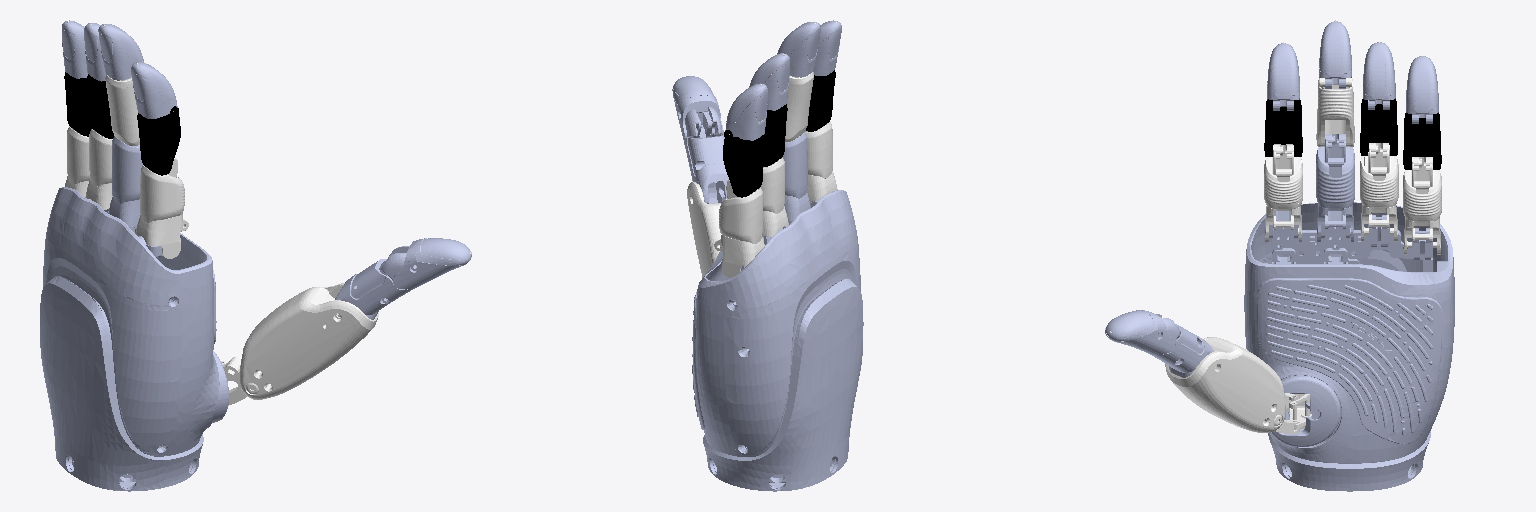
--- Render facts (derived) ---
Views: 3 orthographic renders of the robot side by side, from view 1: azimuth 30°, elevation 25°; view 2: azimuth 150°, elevation 25°; view 3: azimuth 270°, elevation 25°.
Robot: O12-T2-l-URDF — 25 links, 24 joints (19 revolute, 5 fixed); root link hand_base_link; default pose: every joint at zero.
Links seen in each view (by area): view 1: hand_base_link, thumb_metacarpals, index_proximal, thumb_distal, middle_proximal, index_middle, thumb_proximal, index_distal, middle_middle, middle_distal, ring_proximal, pinky_proximal (+5 smaller); view 2: hand_base_link, pinky_proximal, thumb_distal, thumb_proximal, pinky_middle, thumb_metacarpals, index_proximal, middle_proximal, pinky_distal, ring_proximal, middle_distal, ring_distal (+4 smaller); view 3: hand_base_link, thumb_metacarpals, middle_proximal, ring_proximal, pinky_proximal, index_proximal, thumb_distal, middle_middle, pinky_distal, index_distal, ring_distal, middle_distal (+5 smaller).
Boxes of the visible links, x1=… form: hand_base_link: x1=40, y1=187, x2=228, y2=491; thumb_metacarpals: x1=240, y1=283, x2=378, y2=399; index_proximal: x1=136, y1=158, x2=188, y2=258; thumb_distal: x1=381, y1=238, x2=471, y2=289; middle_proximal: x1=108, y1=136, x2=142, y2=233; index_middle: x1=137, y1=106, x2=180, y2=175; thumb_proximal: x1=335, y1=259, x2=410, y2=319; index_distal: x1=131, y1=62, x2=177, y2=118; middle_middle: x1=105, y1=75, x2=139, y2=145; middle_distal: x1=98, y1=24, x2=143, y2=80; ring_proximal: x1=85, y1=129, x2=112, y2=209; pinky_proximal: x1=65, y1=126, x2=90, y2=199; hand_base_link: x1=692, y1=190, x2=863, y2=491; pinky_proximal: x1=714, y1=180, x2=764, y2=277; thumb_distal: x1=672, y1=76, x2=723, y2=142; thumb_proximal: x1=684, y1=127, x2=728, y2=203; pinky_middle: x1=723, y1=130, x2=764, y2=197; thumb_metacarpals: x1=687, y1=182, x2=720, y2=277; index_proximal: x1=805, y1=122, x2=837, y2=204; middle_proximal: x1=783, y1=132, x2=810, y2=228; pinky_distal: x1=725, y1=83, x2=767, y2=140; ring_proximal: x1=761, y1=157, x2=788, y2=239; middle_distal: x1=777, y1=22, x2=820, y2=77; ring_distal: x1=749, y1=53, x2=789, y2=110; hand_base_link: x1=1244, y1=202, x2=1454, y2=491; thumb_metacarpals: x1=1165, y1=337, x2=1285, y2=432; middle_proximal: x1=1316, y1=134, x2=1354, y2=241; ring_proximal: x1=1360, y1=143, x2=1398, y2=241; pinky_proximal: x1=1403, y1=157, x2=1441, y2=254; index_proximal: x1=1264, y1=144, x2=1302, y2=241; thumb_distal: x1=1105, y1=310, x2=1179, y2=355; middle_middle: x1=1316, y1=78, x2=1354, y2=146; pinky_distal: x1=1406, y1=56, x2=1438, y2=123; index_distal: x1=1267, y1=43, x2=1299, y2=110; ring_distal: x1=1363, y1=42, x2=1395, y2=109; middle_distal: x1=1319, y1=21, x2=1351, y2=88.
Bounding box of the posed robot: 0.1454 × 0.1625 × 0.2232 m (x, y, z).
Meshes: 25 distinct files referenced, 25 mesh visuals loaded (25 binary STL).

The robot description file, URDF, robot "O12-T2-l-URDF":
<?xml version="1.0" encoding="utf-8"?>
<!-- This URDF was automatically created by SolidWorks to URDF Exporter! Originally created by Stephen Brawner ([email redacted]) 
     Commit Version: 1.6.0-1-g15f4949  Build Version: 1.6.7594.29634
     For more information, please see http://wiki.ros.org/sw_urdf_exporter -->
<robot
  name="O12-T2-l-URDF">
  <link
    name="hand_base_link">
    <inertial>
      <origin
        xyz="-0.00161046540703813 5.39231302579387E-05 0.0560943804884023"
        rpy="0 0 0" />
      <mass
        value="0.114844256740337" />
      <inertia
        ixx="0.000157741930579527"
        ixy="-1.16564183226397E-07"
        ixz="3.43324969543446E-06"
        iyy="8.54118913647782E-05"
        iyz="3.26212690752232E-06"
        izz="8.6563542843708E-05" />
    </inertial>
    <visual>
      <origin
        xyz="0 0 0"
        rpy="0 0 0" />
      <geometry>
        <mesh
          filename="package://O12-T2-l-URDF/meshes/hand_base_link.STL" />
      </geometry>
      <material
        name="">
        <color
          rgba="0.792156862745098 0.819607843137255 0.933333333333333 1" />
      </material>
    </visual>
    <collision>
      <origin
        xyz="0 0 0"
        rpy="0 0 0" />
      <geometry>
        <mesh
          filename="package://O12-T2-l-URDF/meshes/hand_base_link.STL" />
      </geometry>
    </collision>
  </link>
  <link
    name="thumb_metacarpals_base1">
    <inertial>
      <origin
        xyz="0.0128313740207018 0.000678738882395103 -6.35819005504745E-05"
        rpy="0 0 0" />
      <mass
        value="0.00393646023590197" />
      <inertia
        ixx="5.66341789910244E-07"
        ixy="-2.9983411196748E-08"
        ixz="-8.53073936132261E-10"
        iyy="2.92952202949426E-07"
        iyz="-1.91258689248169E-08"
        izz="6.19997558364507E-07" />
    </inertial>
    <visual>
      <origin
        xyz="0 0 0"
        rpy="0 0 0" />
      <geometry>
        <mesh
          filename="package://O12-T2-l-URDF/meshes/thumb_metacarpals_base1.STL" />
      </geometry>
      <material
        name="">
        <color
          rgba="1 1 1 1" />
      </material>
    </visual>
    <collision>
      <origin
        xyz="0 0 0"
        rpy="0 0 0" />
      <geometry>
        <mesh
          filename="package://O12-T2-l-URDF/meshes/thumb_metacarpals_base1.STL" />
      </geometry>
    </collision>
  </link>
  <joint
    name="thumb_cmc_roll"
    type="revolute">
    <origin
      xyz="-0.0075211 -0.022278 0.04025"
      rpy="0 0 0" />
    <parent
      link="hand_base_link" />
    <child
      link="thumb_metacarpals_base1" />
    <axis
      xyz="-1 0 0" />
    <limit
      lower="0"
      upper="1"
      effort="100"
      velocity="1" />
  </joint>
  <link
    name="thumb_metacarpals_base2">
    <inertial>
      <origin
        xyz="0.0058163964840658 -0.00635112672429271 0.00301818029633513"
        rpy="0 0 0" />
      <mass
        value="0.00171679371228901" />
      <inertia
        ixx="1.18470417835418E-07"
        ixy="4.21491774967571E-08"
        ixz="-1.05146545577021E-08"
        iyy="1.14930696459633E-07"
        iyz="1.74179531150921E-08"
        izz="9.67476258420216E-08" />
    </inertial>
    <visual>
      <origin
        xyz="0 0 0"
        rpy="0 0 0" />
      <geometry>
        <mesh
          filename="package://O12-T2-l-URDF/meshes/thumb_metacarpals_base2.STL" />
      </geometry>
      <material
        name="">
        <color
          rgba="1 1 1 1" />
      </material>
    </visual>
    <collision>
      <origin
        xyz="0 0 0"
        rpy="0 0 0" />
      <geometry>
        <mesh
          filename="package://O12-T2-l-URDF/meshes/thumb_metacarpals_base2.STL" />
      </geometry>
    </collision>
  </link>
  <joint
    name="thumb_cmc_yaw"
    type="revolute">
    <origin
      xyz="0.035071 -0.0033014 0"
      rpy="0 0 0" />
    <parent
      link="thumb_metacarpals_base1" />
    <child
      link="thumb_metacarpals_base2" />
    <axis
      xyz="0 0 1" />
    <limit
      lower="0"
      upper="1"
      effort="100"
      velocity="1" />
  </joint>
  <link
    name="thumb_metacarpals">
    <inertial>
      <origin
        xyz="0.0038585 -0.00018025 0.026273"
        rpy="0 0 0" />
      <mass
        value="0.017091" />
      <inertia
        ixx="6.6313E-06"
        ixy="8.9032E-09"
        ixz="-3.4033E-07"
        iyy="8.0389E-06"
        iyz="-1.3648E-08"
        izz="1.8308E-06" />
    </inertial>
    <visual>
      <origin
        xyz="0 0 0"
        rpy="0 0 0" />
      <geometry>
        <mesh
          filename="package://O12-T2-l-URDF/meshes/thumb_metacarpals.STL" />
      </geometry>
      <material
        name="">
        <color
          rgba="1 1 1 1" />
      </material>
    </visual>
    <collision>
      <origin
        xyz="0 0 0"
        rpy="0 0 0" />
      <geometry>
        <mesh
          filename="package://O12-T2-l-URDF/meshes/thumb_metacarpals.STL" />
      </geometry>
    </collision>
  </link>
  <joint
    name="thumb_cmc_pitch"
    type="revolute">
    <origin
      xyz="0.01613 -0.016305 0.0068611"
      rpy="0 -0.92529 2.3508" />
    <parent
      link="thumb_metacarpals_base2" />
    <child
      link="thumb_metacarpals" />
    <axis
      xyz="0 -1 0" />
    <limit
      lower="0"
      upper="1"
      effort="100"
      velocity="1" />
  </joint>
  <link
    name="thumb_proximal">
    <inertial>
      <origin
        xyz="-0.00245650869112198 0.00186600341761619 0.013443158548372"
        rpy="0 0 0" />
      <mass
        value="0.00522967384448073" />
      <inertia
        ixx="4.4882364883548E-07"
        ixy="-9.70033971351608E-10"
        ixz="-7.97636981715347E-08"
        iyy="6.21157859198411E-07"
        iyz="-3.64690905670397E-09"
        izz="2.25091891426767E-07" />
    </inertial>
    <visual>
      <origin
        xyz="0 0 0"
        rpy="0 0 0" />
      <geometry>
        <mesh
          filename="package://O12-T2-l-URDF/meshes/thumb_proximal.STL" />
      </geometry>
      <material
        name="">
        <color
          rgba="0.792156862745098 0.819607843137255 0.933333333333333 1" />
      </material>
    </visual>
    <collision>
      <origin
        xyz="0 0 0"
        rpy="0 0 0" />
      <geometry>
        <mesh
          filename="package://O12-T2-l-URDF/meshes/thumb_proximal.STL" />
      </geometry>
    </collision>
  </link>
  <joint
    name="thumb_mcp"
    type="revolute">
    <origin
      xyz="0.0081645 -0.00155 0.055634"
      rpy="0 0 0" />
    <parent
      link="thumb_metacarpals" />
    <child
      link="thumb_proximal" />
    <axis
      xyz="0 -1 0" />
    <limit
      lower="0"
      upper="1"
      effort="100"
      velocity="1" />
  </joint>
  <link
    name="thumb_distal">
    <inertial>
      <origin
        xyz="0.000307410958653317 2.07011111937551E-05 0.00928986767954124"
        rpy="0 0 0" />
      <mass
        value="0.00521800678366716" />
      <inertia
        ixx="3.57694191306713E-07"
        ixy="-7.42469621090903E-11"
        ixz="7.81638833861074E-08"
        iyy="3.45473369597084E-07"
        iyz="3.05956318690256E-10"
        izz="2.66044552225899E-07" />
    </inertial>
    <visual>
      <origin
        xyz="0 0 0"
        rpy="0 0 0" />
      <geometry>
        <mesh
          filename="package://O12-T2-l-URDF/meshes/thumb_distal.STL" />
      </geometry>
      <material
        name="">
        <color
          rgba="0.796078431372549 0.823529411764706 0.937254901960784 1" />
      </material>
    </visual>
    <collision>
      <origin
        xyz="0 0 0"
        rpy="0 0 0" />
      <geometry>
        <mesh
          filename="package://O12-T2-l-URDF/meshes/thumb_distal.STL" />
      </geometry>
    </collision>
  </link>
  <joint
    name="thumb_ip"
    type="revolute">
    <origin
      xyz="-0.0015545 0.0015 0.034528"
      rpy="0 0 0" />
    <parent
      link="thumb_proximal" />
    <child
      link="thumb_distal" />
    <axis
      xyz="0 -1 0" />
    <limit
      lower="0"
      upper="1"
      effort="100"
      velocity="1" />
  </joint>
  <link
    name="thumb_Virtual_Point">
    <inertial>
      <origin
        xyz="-0.000184328758149471 -4.99935356591656E-05 -3.91589699965667E-05"
        rpy="0 0 0" />
      <mass
        value="5.23598775598299E-07" />
      <inertia
        ixx="5.23598775598299E-14"
        ixy="5.93366978803555E-31"
        ixz="-1.57772181044202E-30"
        iyy="5.23598775598299E-14"
        iyz="-2.50003687143053E-30"
        izz="5.23598775598299E-14" />
    </inertial>
    <visual>
      <origin
        xyz="0 0 0"
        rpy="0 0 0" />
      <geometry>
        <mesh
          filename="package://O12-T2-l-URDF/meshes/thumb_Virtual_Point.STL" />
      </geometry>
      <material
        name="">
        <color
          rgba="1 1 1 1" />
      </material>
    </visual>
    <collision>
      <origin
        xyz="0 0 0"
        rpy="0 0 0" />
      <geometry>
        <mesh
          filename="package://O12-T2-l-URDF/meshes/thumb_Virtual_Point.STL" />
      </geometry>
    </collision>
  </link>
  <joint
    name="thumb_Virtual_Point-none"
    type="fixed">
    <origin
      xyz="-0.00661 5E-05 0.031568"
      rpy="0 0 0" />
    <parent
      link="thumb_distal" />
    <child
      link="thumb_Virtual_Point" />
    <axis
      xyz="0 0 0" />
  </joint>
  <link
    name="index_metacarpals">
    <inertial>
      <origin
        xyz="0.00151344006390744 -5.44751780837127E-09 0.00199999391249993"
        rpy="0 0 0" />
      <mass
        value="0.00107972492721203" />
      <inertia
        ixx="3.54851849057179E-08"
        ixy="-9.75920143282609E-16"
        ixz="-2.88674570648891E-09"
        iyy="2.11264180975032E-08"
        iyz="-1.69297340759031E-14"
        izz="3.63609571557396E-08" />
    </inertial>
    <visual>
      <origin
        xyz="0 0 0"
        rpy="0 0 0" />
      <geometry>
        <mesh
          filename="package://O12-T2-l-URDF/meshes/index_metacarpals.STL" />
      </geometry>
      <material
        name="">
        <color
          rgba="0.792156862745098 0.819607843137255 0.933333333333333 1" />
      </material>
    </visual>
    <collision>
      <origin
        xyz="0 0 0"
        rpy="0 0 0" />
      <geometry>
        <mesh
          filename="package://O12-T2-l-URDF/meshes/index_metacarpals.STL" />
      </geometry>
    </collision>
  </link>
  <joint
    name="index_mcp_roll"
    type="revolute">
    <origin
      xyz="-0.0071994 -0.030778 0.11945"
      rpy="0 0 0" />
    <parent
      link="hand_base_link" />
    <child
      link="index_metacarpals" />
    <axis
      xyz="0.99992 0 -0.012887" />
    <limit
      lower="0"
      upper="1"
      effort="100"
      velocity="1" />
  </joint>
  <link
    name="index_proximal">
    <inertial>
      <origin
        xyz="-0.00115064868057897 -2.08320532571957E-05 0.0212647838486794"
        rpy="0 0 0" />
      <mass
        value="0.00477960256059446" />
      <inertia
        ixx="5.44834008350545E-07"
        ixy="-9.03598899419747E-11"
        ixz="1.65895348406321E-08"
        iyy="5.41641327287791E-07"
        iyz="-2.50114390616641E-10"
        izz="1.75595647730841E-07" />
    </inertial>
    <visual>
      <origin
        xyz="0 0 0"
        rpy="0 0 0" />
      <geometry>
        <mesh
          filename="package://O12-T2-l-URDF/meshes/index_proximal.STL" />
      </geometry>
      <material
        name="">
        <color
          rgba="1 1 1 1" />
      </material>
    </visual>
    <collision>
      <origin
        xyz="0 0 0"
        rpy="0 0 0" />
      <geometry>
        <mesh
          filename="package://O12-T2-l-URDF/meshes/index_proximal.STL" />
      </geometry>
    </collision>
  </link>
  <joint
    name="index_mcp_pitch"
    type="revolute">
    <origin
      xyz="0.0073692 0 -9.4985E-05"
      rpy="0 0 0" />
    <parent
      link="index_metacarpals" />
    <child
      link="index_proximal" />
    <axis
      xyz="0 1 0" />
    <limit
      lower="0"
      upper="1"
      effort="100"
      velocity="1" />
  </joint>
  <link
    name="index_middle">
    <inertial>
      <origin
        xyz="0.000582799122903887 -1.66622418459189E-05 0.013441904734998"
        rpy="0 0 0" />
      <mass
        value="0.00270775197321639" />
      <inertia
        ixx="2.25567814590075E-07"
        ixy="4.76662842477137E-12"
        ixz="5.19478039422153E-09"
        iyy="1.61875482546986E-07"
        iyz="-8.95325679002794E-12"
        izz="1.17900381226969E-07" />
    </inertial>
    <visual>
      <origin
        xyz="0 0 0"
        rpy="0 0 0" />
      <geometry>
        <mesh
          filename="package://O12-T2-l-URDF/meshes/index_middle.STL" />
      </geometry>
      <material
        name="">
        <color
          rgba="0 0 0 1" />
      </material>
    </visual>
    <collision>
      <origin
        xyz="0 0 0"
        rpy="0 0 0" />
      <geometry>
        <mesh
          filename="package://O12-T2-l-URDF/meshes/index_middle.STL" />
      </geometry>
    </collision>
  </link>
  <joint
    name="index_pip"
    type="revolute">
    <origin
      xyz="-0.0030528 0 0.039907"
      rpy="0 0 0" />
    <parent
      link="index_proximal" />
    <child
      link="index_middle" />
    <axis
      xyz="0 1 0" />
    <limit
      lower="0"
      upper="1"
      effort="100"
      velocity="1" />
  </joint>
  <link
    name="index_distal">
    <inertial>
      <origin
        xyz="-0.0072164006985974 -3.10530305492884E-05 0.00510324461394016"
        rpy="0 0 0" />
      <mass
        value="0.00258259740989255" />
      <inertia
        ixx="1.30227875511426E-07"
        ixy="1.19682427438751E-10"
        ixz="4.12783030352628E-08"
        iyy="1.36472670574212E-07"
        iyz="-3.14459227086956E-10"
        izz="1.01017145947709E-07" />
    </inertial>
    <visual>
      <origin
        xyz="0 0 0"
        rpy="0 0 0" />
      <geometry>
        <mesh
          filename="package://O12-T2-l-URDF/meshes/index_distal.STL" />
      </geometry>
      <material
        name="">
        <color
          rgba="0.792156862745098 0.819607843137255 0.933333333333333 1" />
      </material>
    </visual>
    <collision>
      <origin
        xyz="0 0 0"
        rpy="0 0 0" />
      <geometry>
        <mesh
          filename="package://O12-T2-l-URDF/meshes/index_distal.STL" />
      </geometry>
    </collision>
  </link>
  <joint
    name="index_dip"
    type="revolute">
    <origin
      xyz="0.0053069 0 0.026592"
      rpy="0 0 0" />
    <parent
      link="index_middle" />
    <child
      link="index_distal" />
    <axis
      xyz="0 1 0" />
    <limit
      lower="0"
      upper="1"
      effort="100"
      velocity="1" />
  </joint>
  <link
    name="index_Virtual_Point">
    <inertial>
      <origin
        xyz="0 -3.46944695195361E-18 0"
        rpy="0 0 0" />
      <mass
        value="5.23598775598299E-07" />
      <inertia
        ixx="5.23598775598299E-14"
        ixy="-7.12872725499097E-37"
        ixz="2.39853897268964E-36"
        iyy="5.23598775598299E-14"
        iyz="-1.15642107493289E-30"
        izz="5.23598775598299E-14" />
    </inertial>
    <visual>
      <origin
        xyz="0 0 0"
        rpy="0 0 0" />
      <geometry>
        <mesh
          filename="package://O12-T2-l-URDF/meshes/index_Virtual_Point.STL" />
      </geometry>
      <material
        name="">
        <color
          rgba="1 1 1 1" />
      </material>
    </visual>
    <collision>
      <origin
        xyz="0 0 0"
        rpy="0 0 0" />
      <geometry>
        <mesh
          filename="package://O12-T2-l-URDF/meshes/index_Virtual_Point.STL" />
      </geometry>
    </collision>
  </link>
  <joint
    name="index_Virtual_Point-none"
    type="fixed">
    <origin
      xyz="-0.0152816222742688 0 0.0240371760926346"
      rpy="0 0 0" />
    <parent
      link="index_distal" />
    <child
      link="index_Virtual_Point" />
    <axis
      xyz="0 0 0" />
  </joint>
  <link
    name="middle_metacarpals">
    <inertial>
      <origin
        xyz="0.001513443142004 -5.44751168826685E-09 0.00199999158336196"
        rpy="0 0 0" />
      <mass
        value="0.00107972492722234" />
      <inertia
        ixx="3.54851760205572E-08"
        ixy="-9.75922605133098E-16"
        ixz="-2.88674435859045E-09"
        iyy="2.11264180975021E-08"
        iyz="-1.69297007027046E-14"
        izz="3.63609660418816E-08" />
    </inertial>
    <visual>
      <origin
        xyz="0 0 0"
        rpy="0 0 0" />
      <geometry>
        <mesh
          filename="package://O12-T2-l-URDF/meshes/middle_metacarpals.STL" />
      </geometry>
      <material
        name="">
        <color
          rgba="0.792156862745098 0.819607843137255 0.933333333333333 1" />
      </material>
    </visual>
    <collision>
      <origin
        xyz="0 0 0"
        rpy="0 0 0" />
      <geometry>
        <mesh
          filename="package://O12-T2-l-URDF/meshes/middle_metacarpals.STL" />
      </geometry>
    </collision>
  </link>
  <joint
    name="middle_mcp_roll"
    type="revolute">
    <origin
      xyz="-0.0071994 -0.0066607 0.11946"
      rpy="0 0 0" />
    <parent
      link="hand_base_link" />
    <child
      link="middle_metacarpals" />
    <axis
      xyz="0.99992 0 -0.012888" />
    <limit
      lower="0"
      upper="1"
      effort="100"
      velocity="1" />
  </joint>
  <link
    name="middle_proximal">
    <inertial>
      <origin
        xyz="-0.00165985154195069 2.4557677021325E-05 0.023622093663244"
        rpy="0 0 0" />
      <mass
        value="0.00551224266379775" />
      <inertia
        ixx="7.79066394729381E-07"
        ixy="-4.64147961377332E-12"
        ixz="3.22743739771861E-08"
        iyy="7.60603535724366E-07"
        iyz="-5.92496477681943E-10"
        izz="2.05879595330157E-07" />
    </inertial>
    <visual>
      <origin
        xyz="0 0 0"
        rpy="0 0 0" />
      <geometry>
        <mesh
          filename="package://O12-T2-l-URDF/meshes/middle_proximal.STL" />
      </geometry>
      <material
        name="">
        <color
          rgba="0.792156862745098 0.819607843137255 0.933333333333333 1" />
      </material>
    </visual>
    <collision>
      <origin
        xyz="0 0 0"
        rpy="0 0 0" />
      <geometry>
        <mesh
          filename="package://O12-T2-l-URDF/meshes/middle_proximal.STL" />
      </geometry>
    </collision>
  </link>
  <joint
    name="middle_mcp_pitch"
    type="revolute">
    <origin
      xyz="0.0073692 0 -9.4996E-05"
      rpy="0 0 0" />
    <parent
      link="middle_metacarpals" />
    <child
      link="middle_proximal" />
    <axis
      xyz="0 1 0" />
    <limit
      lower="0"
      upper="1"
      effort="100"
      velocity="1" />
  </joint>
  <link
    name="middle_middle">
    <inertial>
      <origin
        xyz="-0.000230369763452722 2.88460421738763E-05 0.0161975684445981"
        rpy="0 0 0" />
      <mass
        value="0.00314204671441198" />
      <inertia
        ixx="3.20092568330847E-07"
        ixy="-3.58688697052903E-11"
        ixz="1.53073399206161E-08"
        iyy="2.47015871367737E-07"
        iyz="2.74053237627201E-11"
        izz="1.35843044383385E-07" />
    </inertial>
    <visual>
      <origin
        xyz="0 0 0"
        rpy="0 0 0" />
      <geometry>
        <mesh
          filename="package://O12-T2-l-URDF/meshes/middle_middle.STL" />
      </geometry>
      <material
        name="">
        <color
          rgba="1 1 1 1" />
      </material>
    </visual>
    <collision>
      <origin
        xyz="0 0 0"
        rpy="0 0 0" />
      <geometry>
        <mesh
          filename="package://O12-T2-l-URDF/meshes/middle_middle.STL" />
      </geometry>
    </collision>
  </link>
  <joint
    name="middle_pip"
    type="revolute">
    <origin
      xyz="-0.004144 0 0.044828"
      rpy="0 0 0" />
    <parent
      link="middle_proximal" />
    <child
      link="middle_middle" />
    <axis
      xyz="0 1 0" />
    <limit
      lower="0"
      upper="1"
      effort="100"
      velocity="1" />
  </joint>
  <link
    name="middle_distal">
    <inertial>
      <origin
        xyz="-0.00724758425654952 -3.1052730819243E-05 0.00505888968194335"
        rpy="0 0 0" />
      <mass
        value="0.00258260265037946" />
      <inertia
        ixx="1.29720817921799E-07"
        ixy="1.21614678951735E-10"
        ixz="4.1454663430862E-08"
        iyy="1.36473264398442E-07"
        iyz="-3.13727137759971E-10"
        izz="1.01524943088101E-07" />
    </inertial>
    <visual>
      <origin
        xyz="0 0 0"
        rpy="0 0 0" />
      <geometry>
        <mesh
          filename="package://O12-T2-l-URDF/meshes/middle_distal.STL" />
      </geometry>
      <material
        name="">
        <color
          rgba="0.792156862745098 0.819607843137255 0.933333333333333 1" />
      </material>
    </visual>
    <collision>
      <origin
        xyz="0 0 0"
        rpy="0 0 0" />
      <geometry>
        <mesh
          filename="package://O12-T2-l-URDF/meshes/middle_distal.STL" />
      </geometry>
    </collision>
  </link>
  <joint
    name="middle_dip"
    type="revolute">
    <origin
      xyz="0.0036295 0 0.031612"
      rpy="0 0 0" />
    <parent
      link="middle_middle" />
    <child
      link="middle_distal" />
    <axis
      xyz="0 1 0" />
    <limit
      lower="0"
      upper="1"
      effort="100"
      velocity="1" />
  </joint>
  <link
    name="middle_Virtual_Point">
    <inertial>
      <origin
        xyz="-6.24500451351651E-17 6.64399091299117E-16 -5.55111512312578E-17"
        rpy="0 0 0" />
      <mass
        value="5.23598775598299E-07" />
      <inertia
        ixx="5.23598775598299E-14"
        ixy="-3.60911334838117E-40"
        ixz="2.76425772861111E-41"
        iyy="5.23598775598299E-14"
        iyz="-1.85775742897702E-30"
        izz="5.23598775598299E-14" />
    </inertial>
    <visual>
      <origin
        xyz="0 0 0"
        rpy="0 0 0" />
      <geometry>
        <mesh
          filename="package://O12-T2-l-URDF/meshes/middle_Virtual_Point.STL" />
      </geometry>
      <material
        name="">
        <color
          rgba="1 1 1 1" />
      </material>
    </visual>
    <collision>
      <origin
        xyz="0 0 0"
        rpy="0 0 0" />
      <geometry>
        <mesh
          filename="package://O12-T2-l-URDF/meshes/middle_Virtual_Point.STL" />
      </geometry>
    </collision>
  </link>
  <joint
    name="middle_Virtual_Point-none"
    type="fixed">
    <origin
      xyz="-0.015429 0 0.023943"
      rpy="0 0 0" />
    <parent
      link="middle_distal" />
    <child
      link="middle_Virtual_Point" />
    <axis
      xyz="0 0 0" />
  </joint>
  <link
    name="ring_proximal">
    <inertial>
      <origin
        xyz="-0.00161802177937932 -2.08220506989678E-05 0.0212342176491597"
        rpy="0 0 0" />
      <mass
        value="0.00477953283061717" />
      <inertia
        ixx="5.43923248642547E-07"
        ixy="-8.48911319307107E-11"
        ixz="2.46894777187068E-08"
        iyy="5.41640125900586E-07"
        iyz="-2.52181318799242E-10"
        izz="1.76501745957818E-07" />
    </inertial>
    <visual>
      <origin
        xyz="0 0 0"
        rpy="0 0 0" />
      <geometry>
        <mesh
          filename="package://O12-T2-l-URDF/meshes/ring_proximal.STL" />
      </geometry>
      <material
        name="">
        <color
          rgba="1 1 1 1" />
      </material>
    </visual>
    <collision>
      <origin
        xyz="0 0 0"
        rpy="0 0 0" />
      <geometry>
        <mesh
          filename="package://O12-T2-l-URDF/meshes/ring_proximal.STL" />
      </geometry>
    </collision>
  </link>
  <joint
    name="ring_mcp_pitch"
    type="revolute">
    <origin
      xyz="0.0001598 0.013573 0.11972"
      rpy="0 0 0" />
    <parent
      link="hand_base_link" />
    <child
      link="ring_proximal" />
    <axis
      xyz="0 1 0" />
    <limit
      lower="0"
      upper="1"
      effort="100"
      velocity="1" />
  </joint>
  <link
    name="ring_middle">
    <inertial>
      <origin
        xyz="0.000940447905390568 -1.66667501774048E-05 0.013421630768871"
        rpy="0 0 0" />
      <mass
        value="0.00270775337558511" />
      <inertia
        ixx="2.25767885628129E-07"
        ixy="4.61314413767225E-12"
        ixz="2.32214874086729E-09"
        iyy="1.61875512518121E-07"
        iyz="-9.05905844323353E-12"
        izz="1.17700101184182E-07" />
    </inertial>
    <visual>
      <origin
        xyz="0 0 0"
        rpy="0 0 0" />
      <geometry>
        <mesh
          filename="package://O12-T2-l-URDF/meshes/ring_middle.STL" />
      </geometry>
      <material
        name="">
        <color
          rgba="0 0 0 1" />
      </material>
    </visual>
    <collision>
      <origin
        xyz="0 0 0"
        rpy="0 0 0" />
      <geometry>
        <mesh
          filename="package://O12-T2-l-URDF/meshes/ring_middle.STL" />
      </geometry>
    </collision>
  </link>
  <joint
    name="ring_pip"
    type="revolute">
    <origin
      xyz="-0.0039295 0 0.03983"
      rpy="0 0 0" />
    <parent
      link="ring_proximal" />
    <child
      link="ring_middle" />
    <axis
      xyz="0 1 0" />
    <limit
      lower="0"
      upper="1"
      effort="100"
      velocity="1" />
  </joint>
  <link
    name="ring_distal">
    <inertial>
      <origin
        xyz="-0.00679186135685795 -3.10514206139905E-05 0.0056558951654784"
        rpy="0 0 0" />
      <mass
        value="0.00258259191907092" />
      <inertia
        ixx="1.365300193362E-07"
        ixy="9.44469493284984E-11"
        ixz="3.84709877030533E-08"
        iyy="1.36471656656412E-07"
        iyz="-3.22660701215699E-10"
        izz="9.47138987606997E-08" />
    </inertial>
    <visual>
      <origin
        xyz="0 0 0"
        rpy="0 0 0" />
      <geometry>
        <mesh
          filename="package://O12-T2-l-URDF/meshes/ring_distal.STL" />
      </geometry>
      <material
        name="">
        <color
          rgba="0.792156862745098 0.819607843137255 0.933333333333333 1" />
      </material>
    </visual>
    <collision>
      <origin
        xyz="0 0 0"
        rpy="0 0 0" />
      <geometry>
        <mesh
          filename="package://O12-T2-l-URDF/meshes/ring_distal.STL" />
      </geometry>
    </collision>
  </link>
  <joint
    name="ring_dip"
    type="revolute">
    <origin
      xyz="0.0060129 0 0.026442"
      rpy="0 0 0" />
    <parent
      link="ring_middle" />
    <child
      link="ring_distal" />
    <axis
      xyz="0 1 0" />
    <limit
      lower="0"
      upper="1"
      effort="100"
      velocity="1" />
  </joint>
  <link
    name="ring_Virtual_Point">
    <inertial>
      <origin
        xyz="5.55111512312578E-16 1.73472347597681E-18 5.55111512312578E-17"
        rpy="0 0 0" />
      <mass
        value="5.23598775598299E-07" />
      <inertia
        ixx="5.23598775598299E-14"
        ixy="-9.51609985897613E-36"
        ixz="-2.06849307477768E-35"
        iyy="5.23598775598299E-14"
        iyz="1.85037170827187E-30"
        izz="5.23598775598299E-14" />
    </inertial>
    <visual>
      <origin
        xyz="0 0 0"
        rpy="0 0 0" />
      <geometry>
        <mesh
          filename="package://O12-T2-l-URDF/meshes/ring_Virtual_Point.STL" />
      </geometry>
      <material
        name="">
        <color
          rgba="1 1 1 1" />
      </material>
    </visual>
    <collision>
      <origin
        xyz="0 0 0"
        rpy="0 0 0" />
      <geometry>
        <mesh
          filename="package://O12-T2-l-URDF/meshes/ring_Virtual_Point.STL" />
      </geometry>
    </collision>
  </link>
  <joint
    name="ring_Virtual_Point-none"
    type="fixed">
    <origin
      xyz="-0.01334 0 0.025166"
      rpy="0 0 0" />
    <parent
      link="ring_distal" />
    <child
      link="ring_Virtual_Point" />
    <axis
      xyz="0 0 0" />
  </joint>
  <link
    name="pinky_proximal">
    <inertial>
      <origin
        xyz="0 0 0"
        rpy="0 0 0" />
      <mass
        value="0" />
      <inertia
        ixx="0"
        ixy="0"
        ixz="0"
        iyy="0"
        iyz="0"
        izz="0" />
    </inertial>
    <visual>
      <origin
        xyz="0 0 0"
        rpy="0 0 0" />
      <geometry>
        <mesh
          filename="package://O12-T2-l-URDF/meshes/pinky_proximal.STL" />
      </geometry>
      <material
        name="">
        <color
          rgba="1 1 1 1" />
      </material>
    </visual>
    <collision>
      <origin
        xyz="0 0 0"
        rpy="0 0 0" />
      <geometry>
        <mesh
          filename="package://O12-T2-l-URDF/meshes/pinky_proximal.STL" />
      </geometry>
    </collision>
  </link>
  <joint
    name="pinky_mcp_pitch"
    type="revolute">
    <origin
      xyz="0.0001598 0.03363 0.11272"
      rpy="0 0 0" />
    <parent
      link="hand_base_link" />
    <child
      link="pinky_proximal" />
    <axis
      xyz="0 1 0" />
    <limit
      lower="0"
      upper="1"
      effort="100"
      velocity="1" />
  </joint>
  <link
    name="pinky_middle">
    <inertial>
      <origin
        xyz="0.000940340858988643 -1.6666852345866E-05 0.0134216382102795"
        rpy="0 0 0" />
      <mass
        value="0.00270775341133159" />
      <inertia
        ixx="2.25767852098342E-07"
        ixy="4.61323165677339E-12"
        ixz="2.32301105485376E-09"
        iyy="1.61875515034515E-07"
        iyz="-9.06111359635607E-12"
        izz="1.1770013929689E-07" />
    </inertial>
    <visual>
      <origin
        xyz="0 0 0"
        rpy="0 0 0" />
      <geometry>
        <mesh
          filename="package://O12-T2-l-URDF/meshes/pinky_middle.STL" />
      </geometry>
      <material
        name="">
        <color
          rgba="0 0 0 1" />
      </material>
    </visual>
    <collision>
      <origin
        xyz="0 0 0"
        rpy="0 0 0" />
      <geometry>
        <mesh
          filename="package://O12-T2-l-URDF/meshes/pinky_middle.STL" />
      </geometry>
    </collision>
  </link>
  <joint
    name="pinky_pip"
    type="revolute">
    <origin
      xyz="-0.0039295 0 0.03983"
      rpy="0 0 0" />
    <parent
      link="pinky_proximal" />
    <child
      link="pinky_middle" />
    <axis
      xyz="0 1 0" />
    <limit
      lower="0"
      upper="1"
      effort="100"
      velocity="1" />
  </joint>
  <link
    name="pinky_distal">
    <inertial>
      <origin
        xyz="-0.00679190138001771 -3.10516578322304E-05 0.00565584691673574"
        rpy="0 0 0" />
      <mass
        value="0.0025825918864764" />
      <inertia
        ixx="1.36529472111252E-07"
        ixy="9.44467318754025E-11"
        ixz="3.84712826230557E-08"
        iyy="1.36471652160676E-07"
        iyz="-3.2265582569779E-10"
        izz="9.47144453976082E-08" />
    </inertial>
    <visual>
      <origin
        xyz="0 0 0"
        rpy="0 0 0" />
      <geometry>
        <mesh
          filename="package://O12-T2-l-URDF/meshes/pinky_distal.STL" />
      </geometry>
      <material
        name="">
        <color
          rgba="0.792156862745098 0.819607843137255 0.933333333333333 1" />
      </material>
    </visual>
    <collision>
      <origin
        xyz="0 0 0"
        rpy="0 0 0" />
      <geometry>
        <mesh
          filename="package://O12-T2-l-URDF/meshes/pinky_distal.STL" />
      </geometry>
    </collision>
  </link>
  <joint
    name="pinky_dip"
    type="revolute">
    <origin
      xyz="0.0060127 0 0.026442"
      rpy="0 0 0" />
    <parent
      link="pinky_middle" />
    <child
      link="pinky_distal" />
    <axis
      xyz="0 1 0" />
    <limit
      lower="0"
      upper="1"
      effort="100"
      velocity="1" />
  </joint>
  <link
    name="pinky_Virtual_Point">
    <inertial>
      <origin
        xyz="-1.73472347597681E-18 6.93889390390723E-18 2.77555756156289E-17"
        rpy="0 0 0" />
      <mass
        value="5.23598775598299E-07" />
      <inertia
        ixx="5.23598775598299E-14"
        ixy="-1.60381510490316E-37"
        ixz="-1.49418255470987E-37"
        iyy="5.23598775598299E-14"
        iyz="-2.59800115709611E-31"
        izz="5.23598775598299E-14" />
    </inertial>
    <visual>
      <origin
        xyz="0 0 0"
        rpy="0 0 0" />
      <geometry>
        <mesh
          filename="package://O12-T2-l-URDF/meshes/pinky_Virtual_Point.STL" />
      </geometry>
      <material
        name="">
        <color
          rgba="1 1 1 1" />
      </material>
    </visual>
    <collision>
      <origin
        xyz="0 0 0"
        rpy="0 0 0" />
      <geometry>
        <mesh
          filename="package://O12-T2-l-URDF/meshes/pinky_Virtual_Point.STL" />
      </geometry>
    </collision>
  </link>
  <joint
    name="pinky_Virtual_Point-none"
    type="fixed">
    <origin
      xyz="-0.01334 0 0.025166"
      rpy="0 0 0" />
    <parent
      link="pinky_distal" />
    <child
      link="pinky_Virtual_Point" />
    <axis
      xyz="0 0 0" />
  </joint>
</robot>
